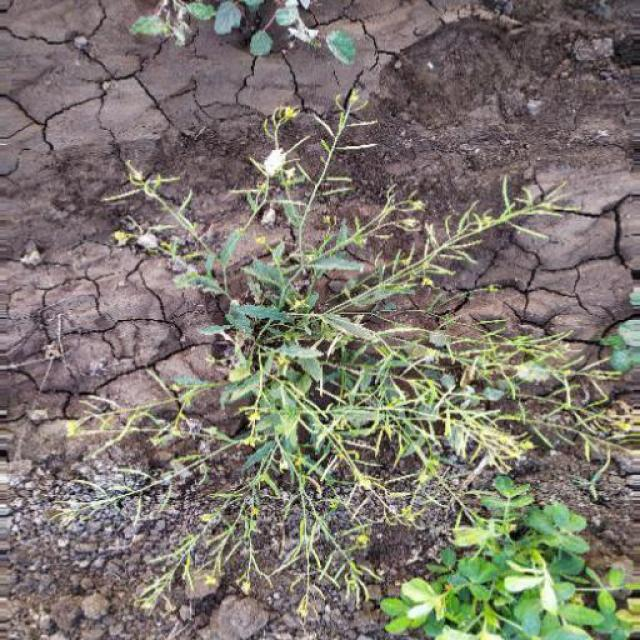weed: (121, 155, 565, 567)
